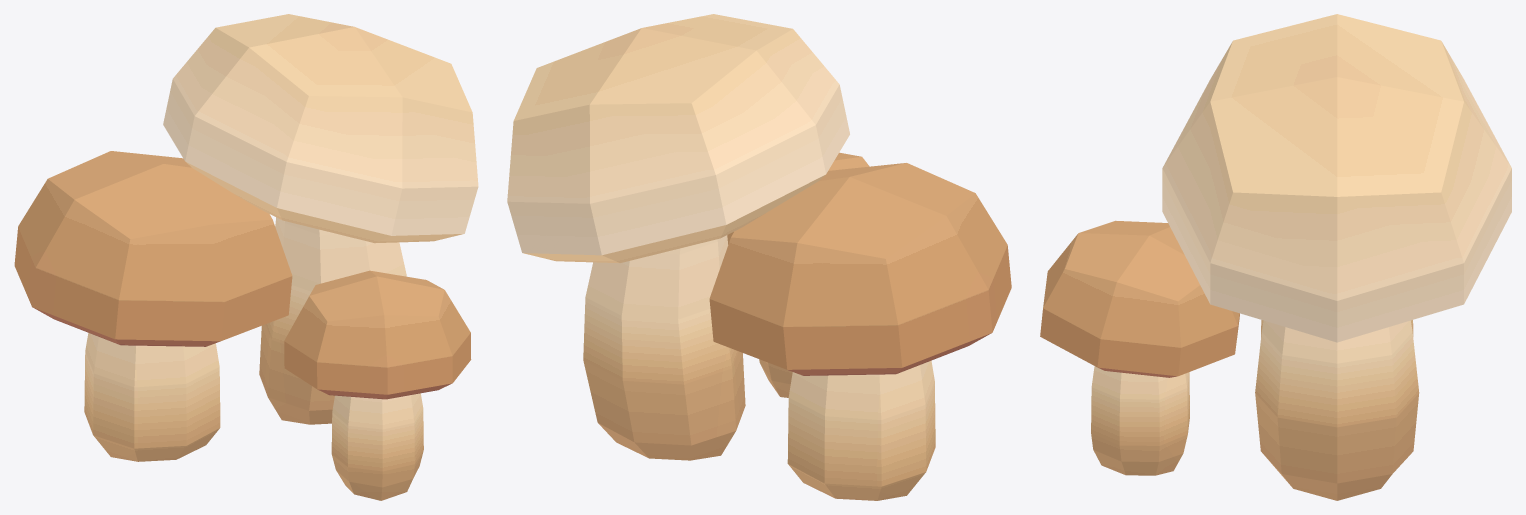
Rendered from Champignon_Bunch.glb.
3 views of the same model, side by side, from view 1: azimuth 30°, elevation 25°; view 2: azimuth 150°, elevation 25°; view 3: azimuth 270°, elevation 25° (orthographic). The views are drawn at different scales.
Parts seen in each view (by area): view 1: Cube.003; view 2: Cube.003; view 3: Cube.003.
Boxes of the visible parts, x1,y1,x2,y2 form: Cube.003: (14, 14, 478, 500); Cube.003: (507, 14, 1011, 500); Cube.003: (1040, 14, 1511, 500).
Bounding box in the file's own units: 6.33 × 5.5 × 5.38.
1 material, 1 textured.
